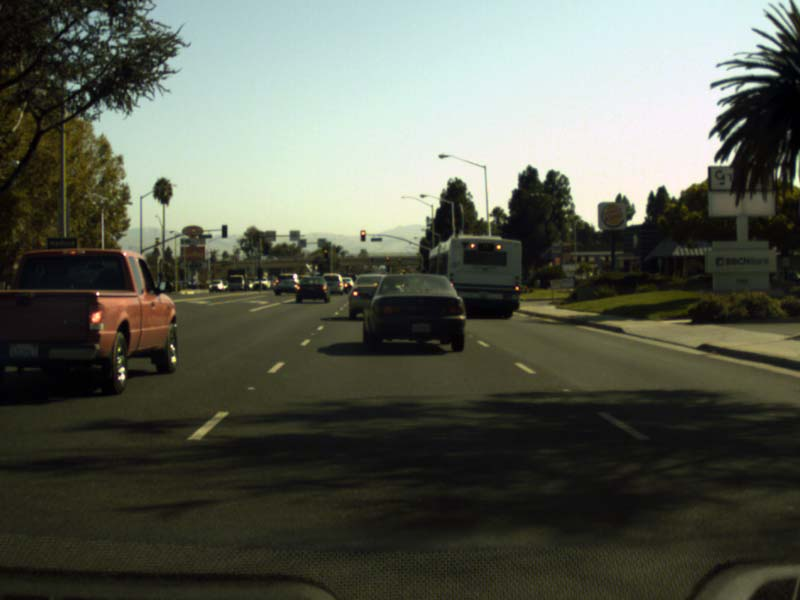Red: (360, 230, 366, 241)
Yellow: (322, 248, 327, 257), (386, 256, 389, 260)
